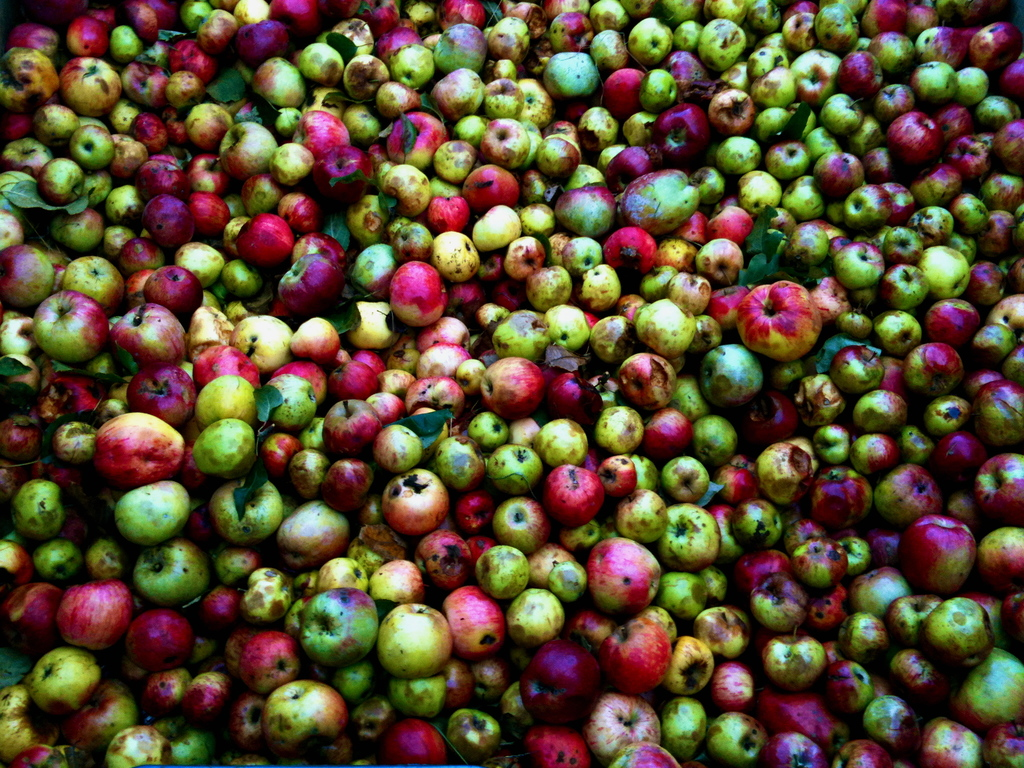Apple: (0, 0, 1023, 767), (581, 551, 668, 624)
